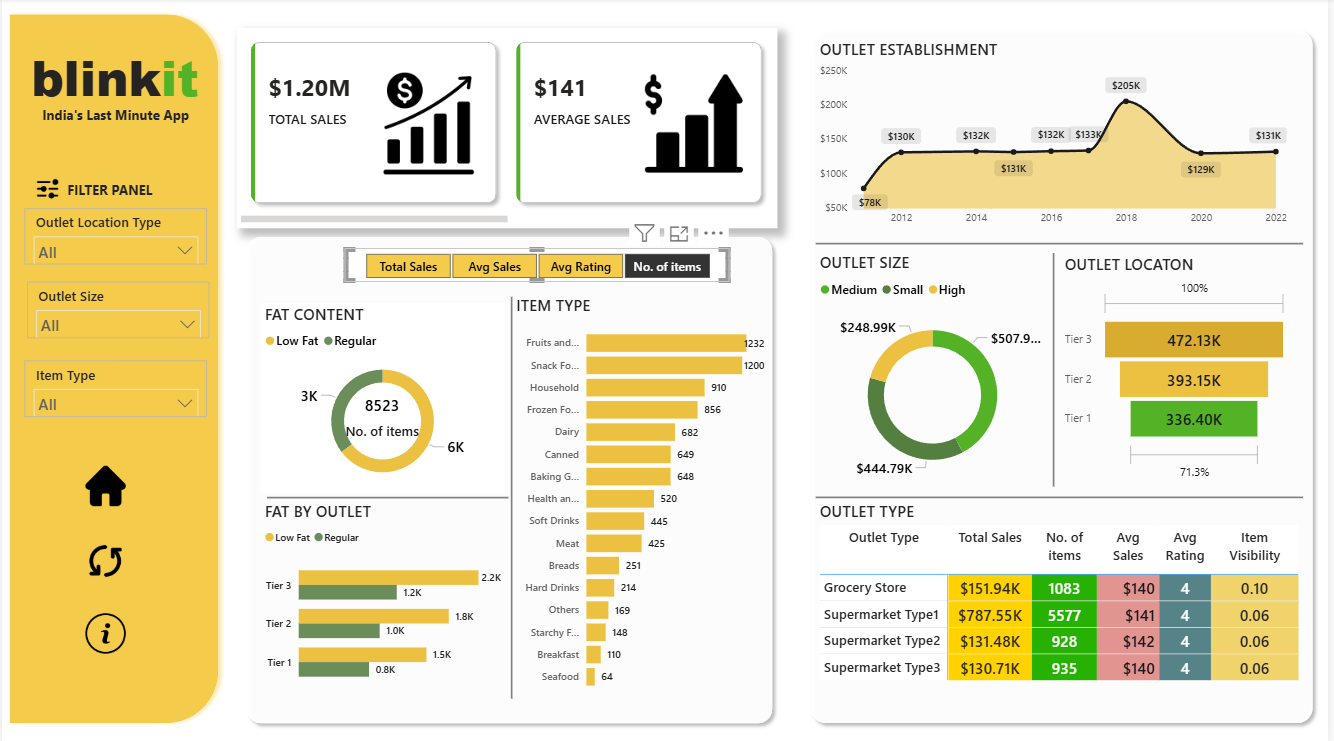

What the dashboard file says about the page in this screenshot:
{"tool":"powerbi","page":{"name":"Dashboard","canvas":[1600,900],"ordinal":0},"visuals":[{"type":"shape","box":[0,10,270,873.3],"z":0},{"type":"textbox","box":[30,48.6,232.9,95.7],"z":1000},{"type":"textbox","box":[44.3,125.7,205.7,37.1],"z":2000},{"type":"cardVisual","fields":{"Data":["BlinkIT Grocery Data.Total Sales","BlinkIT Grocery Data.Avg Sales","BlinkIT Grocery Data.Avg Rating","BlinkIT Grocery Data.Number of items"]},"box":[283,36.7,651.7,241.7],"z":3000},{"type":"shape","box":[286.7,278.3,651.7,605],"z":4000},{"type":"donutChart","title":"FAT CONTENT","fields":{"Y":["BlinkIT Grocery Data.No. of items"],"Category":["BlinkIT Grocery Data.Item Fat Content"]},"box":[311.7,367.3,294.3,228.6],"z":5000},{"type":"slicer","fields":{"Values":["Metrics.Metrics"]},"box":[413.2,301.6,464.5,40.7],"z":6000},{"type":"card","fields":{"Values":["BlinkIT Grocery Data.No. of items"]},"box":[406.7,456.7,103.3,95],"z":7000},{"type":"clusteredBarChart","title":"FAT BY OUTLET","fields":{"Y":["BlinkIT Grocery Data.No. of items"],"Category":["BlinkIT Grocery Data.Outlet Location Type"],"Series":["BlinkIT Grocery Data.Item Fat Content"]},"box":[311.7,606.7,295,238.3],"z":8000},{"type":"shape","box":[320,580,291.4,44.3],"z":9000},{"type":"shape","box":[595,360,38.3,485],"z":10000},{"type":"barChart","title":"ITEM TYPE","fields":{"Y":["BlinkIT Grocery Data.No. of items"],"Category":["BlinkIT Grocery Data.Item Type"]},"box":[615,356.7,310,488.3],"z":11000},{"type":"shape","box":[966.7,30,623.3,853.3],"z":12000},{"type":"lineChart","title":"OUTLET ESTABLISHMENT","fields":{"Category":["BlinkIT Grocery Data.Outlet Establishment Year"],"Y":["BlinkIT Grocery Data.Total Sales"]},"box":[981.7,48.3,573.3,235],"z":13000},{"type":"shape","box":[981.7,279,588.1,34.7],"z":14000},{"type":"donutChart","title":"OUTLET SIZE","fields":{"Y":["BlinkIT Grocery Data.Total Sales"],"Category":["BlinkIT Grocery Data.Outlet Size"]},"box":[981.7,306.1,282,289.5],"z":15000},{"type":"shape","box":[1248.3,308.3,40,281.7],"z":16000},{"type":"funnel","title":"OUTLET LOCATON","fields":{"Y":["Sum(BlinkIT Grocery Data.Sales)"],"Category":["BlinkIT Grocery Data.Outlet Location Type"]},"box":[1276.7,308.3,278.3,280],"z":17000},{"type":"shape","box":[981.7,585.1,588.1,34.7],"z":18000},{"type":"pivotTable","title":"OUTLET TYPE","fields":{"Rows":["BlinkIT Grocery Data.Outlet Type"],"Values":["BlinkIT Grocery Data.Total Sales","BlinkIT Grocery Data.No. of items","BlinkIT Grocery Data.Avg Sales","BlinkIT Grocery Data.Avg Rating","Avg(BlinkIT Grocery Data.Item Visibility)"]},"box":[981.7,606.7,588.3,238.3],"z":19000},{"type":"slicer","fields":{"Values":["BlinkIT Grocery Data.Outlet Location Type"]},"box":[26.7,253.3,220,68.3],"z":20000},{"type":"slicer","fields":{"Values":["BlinkIT Grocery Data.Outlet Size"]},"box":[30,341.7,220,68.3],"z":21000},{"type":"slicer","fields":{"Values":["BlinkIT Grocery Data.Item Type"]},"box":[26.7,436.7,220,68.3],"z":22000},{"type":"textbox","box":[74.2,215.7,123.7,37.7],"z":23000},{"type":"image","box":[95,559.5,60.3,58.8],"z":24000},{"type":"image","box":[36.5,206.6,37.7,46.7],"z":25000},{"type":"image","box":[95,650,60.3,58.8],"z":26000},{"type":"image","box":[95,737.4,60.3,58.8],"z":28000}]}

Visuals, with their boxes in screenshot pixels (x1, y1, x2, y2), scaled from the page's 1600x900 canvas onto the 1334x741 screenshot:
shape: box=[0, 8, 225, 727]
textbox: box=[25, 40, 219, 119]
textbox: box=[37, 103, 208, 134]
cardVisual - BlinkIT Grocery Data.Total Sales x BlinkIT Grocery Data.Avg Sales: box=[236, 30, 779, 229]
shape: box=[239, 229, 782, 727]
"FAT CONTENT" donutChart: box=[260, 302, 505, 491]
slicer - Metrics.Metrics: box=[345, 248, 732, 282]
card - BlinkIT Grocery Data.No. of items: box=[339, 376, 425, 454]
"FAT BY OUTLET" clusteredBarChart: box=[260, 500, 506, 696]
shape: box=[267, 478, 510, 514]
shape: box=[496, 296, 528, 696]
"ITEM TYPE" barChart: box=[513, 294, 771, 696]
shape: box=[806, 25, 1326, 727]
"OUTLET ESTABLISHMENT" lineChart: box=[818, 40, 1296, 233]
shape: box=[818, 230, 1309, 258]
"OUTLET SIZE" donutChart: box=[818, 252, 1054, 490]
shape: box=[1041, 254, 1074, 486]
"OUTLET LOCATON" funnel: box=[1064, 254, 1296, 484]
shape: box=[818, 482, 1309, 510]
"OUTLET TYPE" pivotTable: box=[818, 500, 1309, 696]
slicer - BlinkIT Grocery Data.Outlet Location Type: box=[22, 209, 206, 265]
slicer - BlinkIT Grocery Data.Outlet Size: box=[25, 281, 208, 338]
slicer - BlinkIT Grocery Data.Item Type: box=[22, 360, 206, 416]
textbox: box=[62, 178, 165, 209]
image: box=[79, 461, 129, 509]
image: box=[30, 170, 62, 209]
image: box=[79, 535, 129, 584]
image: box=[79, 607, 129, 656]
